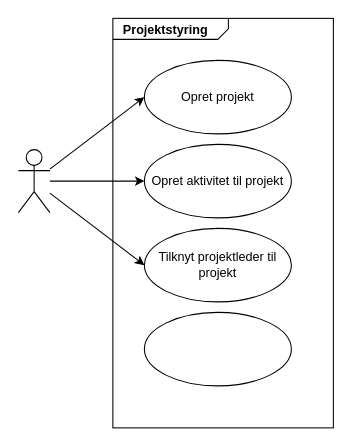
Some shapes in this 352 by 446 pixel diagram are drawn without their labels. Here are the shapes that lost their labels. From the top down, the box of each, then its label:
(17, 149, 50, 213): Gæst
(143, 311, 291, 386): Tilknyt medarbejder til projekt
